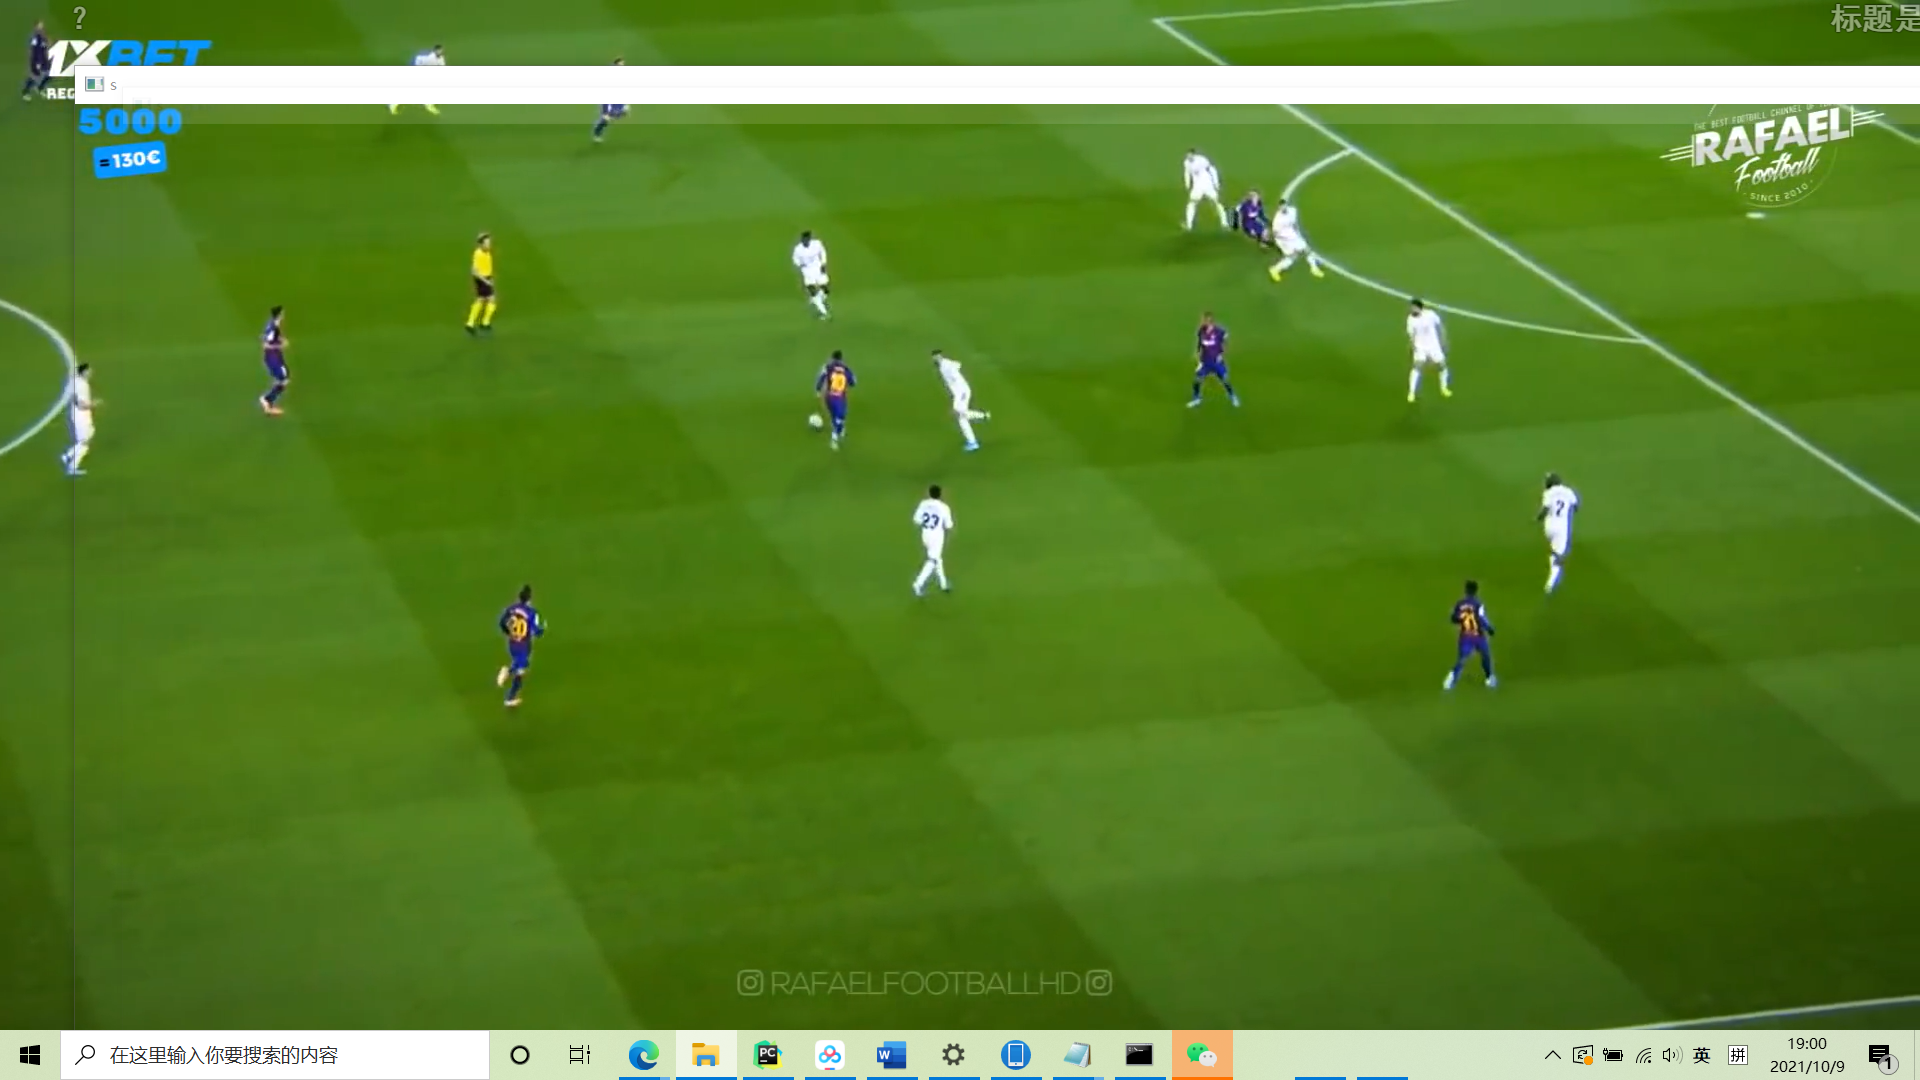ft: (807, 411, 824, 433)
